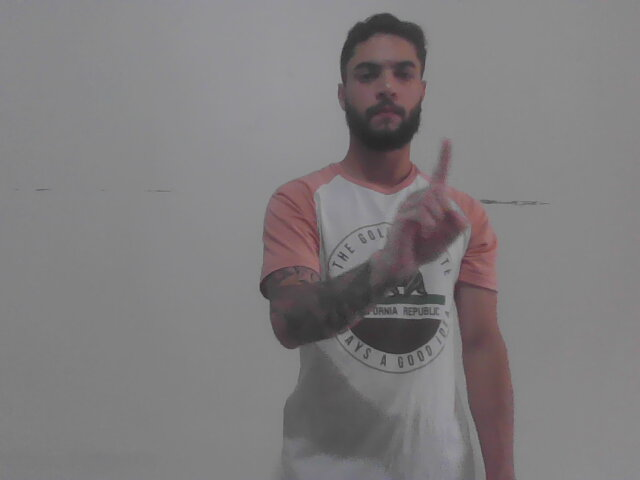z: (385, 137, 465, 282)
